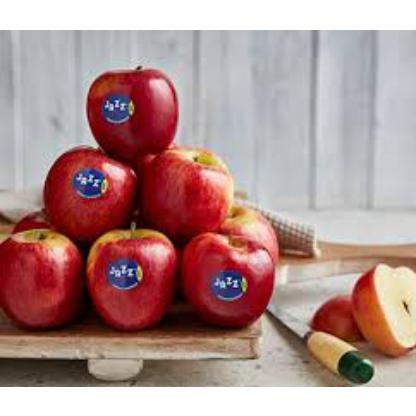apple: (176, 235, 275, 322), (86, 68, 180, 152), (87, 233, 174, 322), (42, 147, 138, 222), (0, 233, 82, 320), (348, 254, 414, 353), (150, 154, 235, 224)
